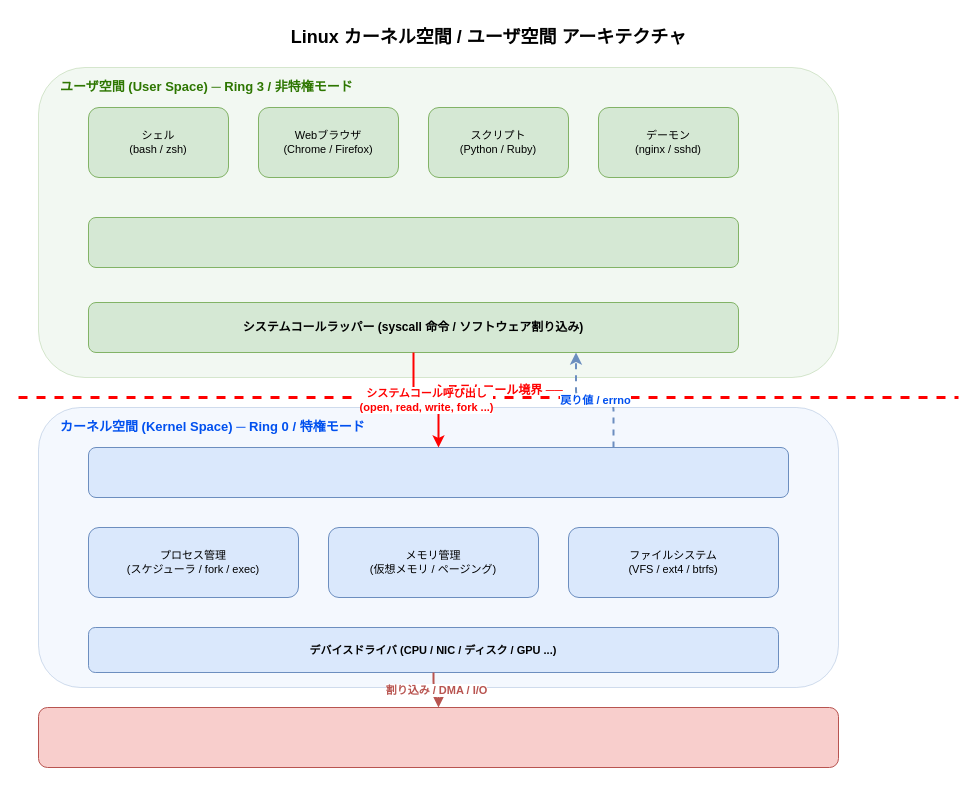
This 978x785 diagram has some shape labels left out. Each missing label, with the centre of its shape:
システムコールインタフェース (System Call Interface): the point at 438,472
ハードウェア (Hardware): the point at 438,737
標準Cライブラリ glibc (open / read / write / malloc / printf ...): the point at 413,242
